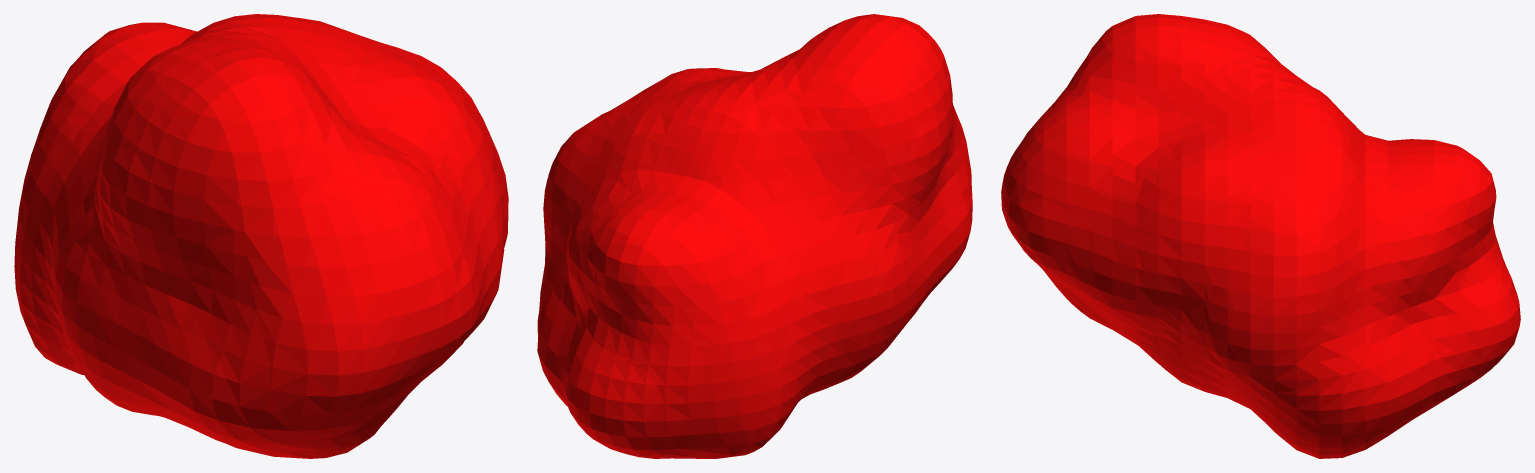
File: grxA_coarse.dae
3 renders of one model, left to right at view 1: azimuth 30°, elevation 25°; view 2: azimuth 150°, elevation 25°; view 3: azimuth 270°, elevation 25°, orthographic. The views are drawn at different scales.
Visible parts, largest first — view 1: grxA; view 2: grxA; view 3: grxA.
Boxes of the visible parts, left/top/right/bottom form: grxA: left=14, top=14, right=508, bottom=458; grxA: left=537, top=14, right=972, bottom=458; grxA: left=1001, top=14, right=1520, bottom=458.
Size of the model in its own units: 30.52 by 32.95 by 42.41.
